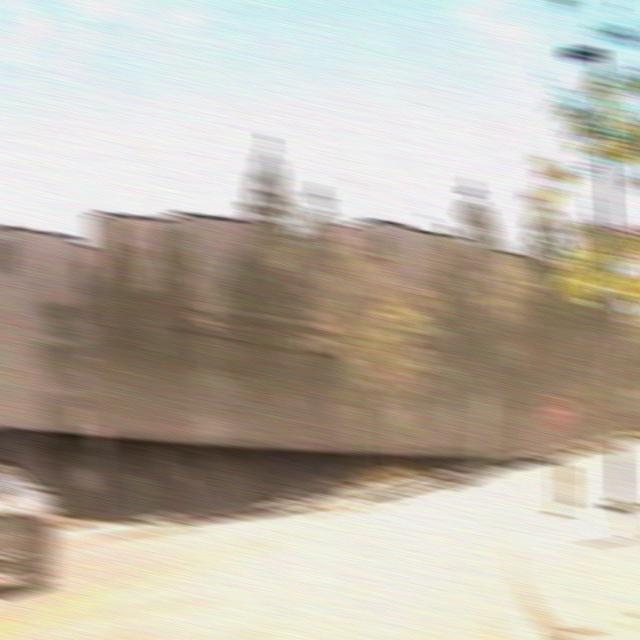stop_sign: (540, 395, 574, 434)
